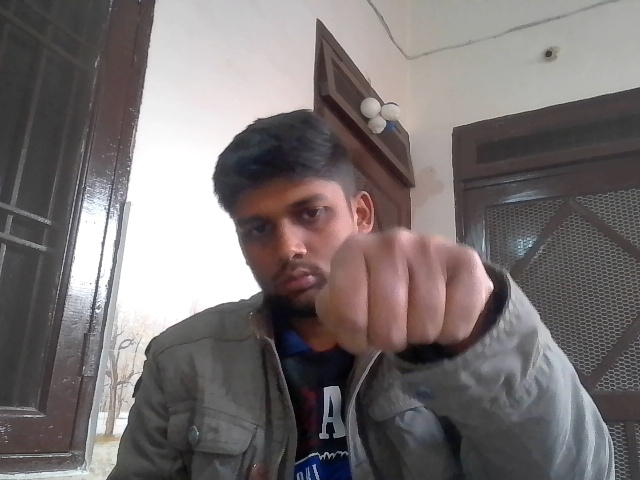Yes: (313, 214, 497, 370)
